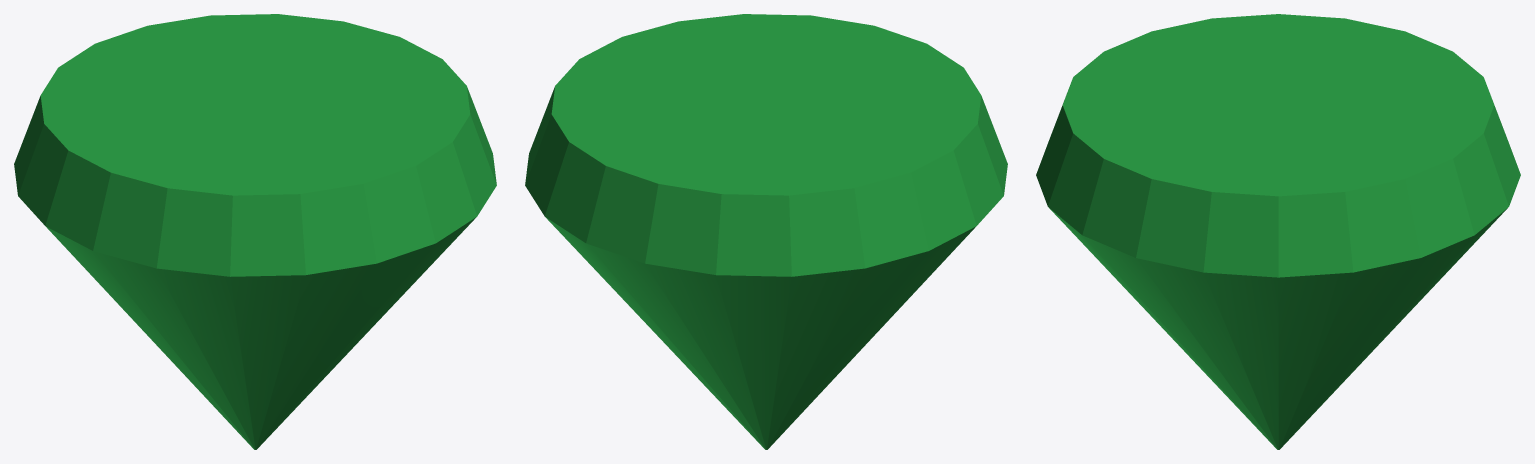
File: gem.obj
3 views of the same model, side by side, from view 1: azimuth 30°, elevation 25°; view 2: azimuth 150°, elevation 25°; view 3: azimuth 270°, elevation 25° (orthographic).
Bounding box in the file's own units: 2 × 1.57 × 2.
Materials: 1 (1 with a texture image).
